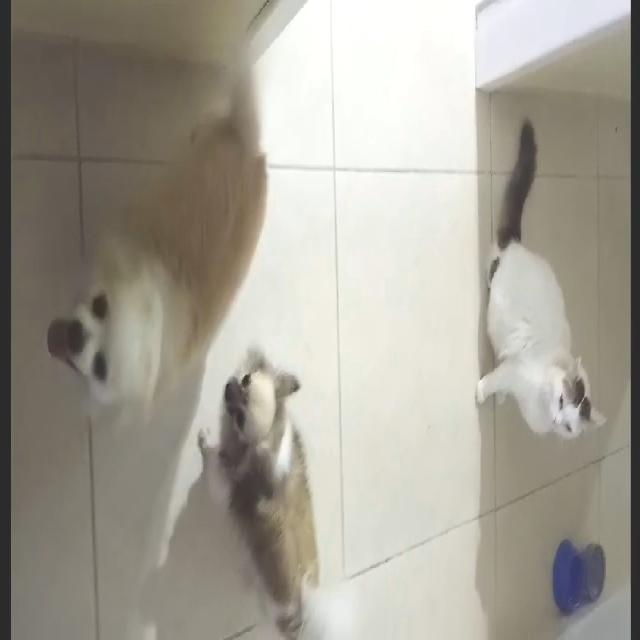Pedrita: (208, 338, 342, 638)
Theo: (36, 71, 296, 452)
